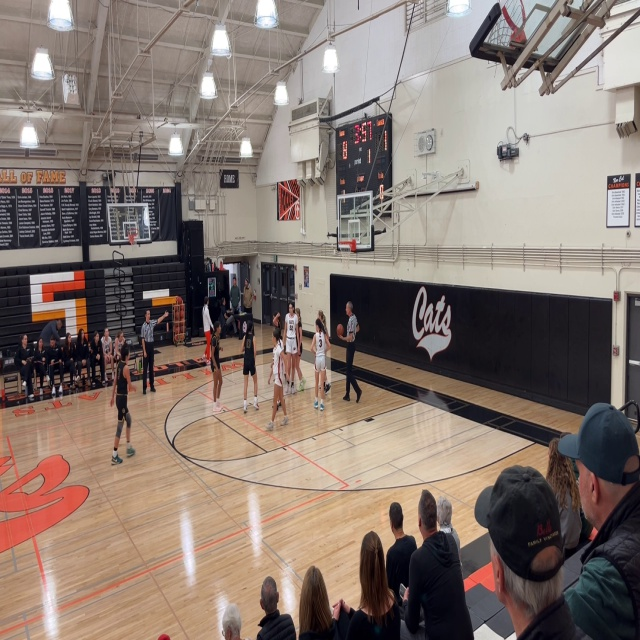Basketball: (336, 324, 344, 337)
